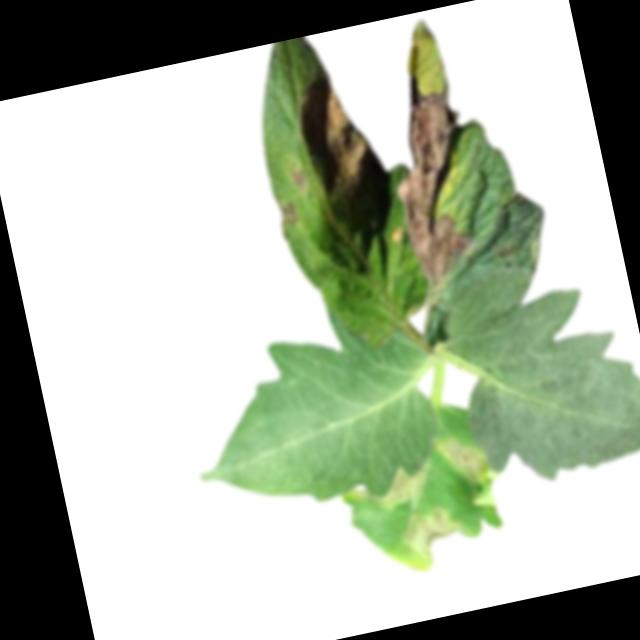Late_blight: (374, 67, 493, 284), (292, 67, 376, 204), (346, 458, 442, 518), (398, 500, 478, 570), (434, 430, 492, 498), (277, 198, 301, 230), (290, 166, 311, 193)
